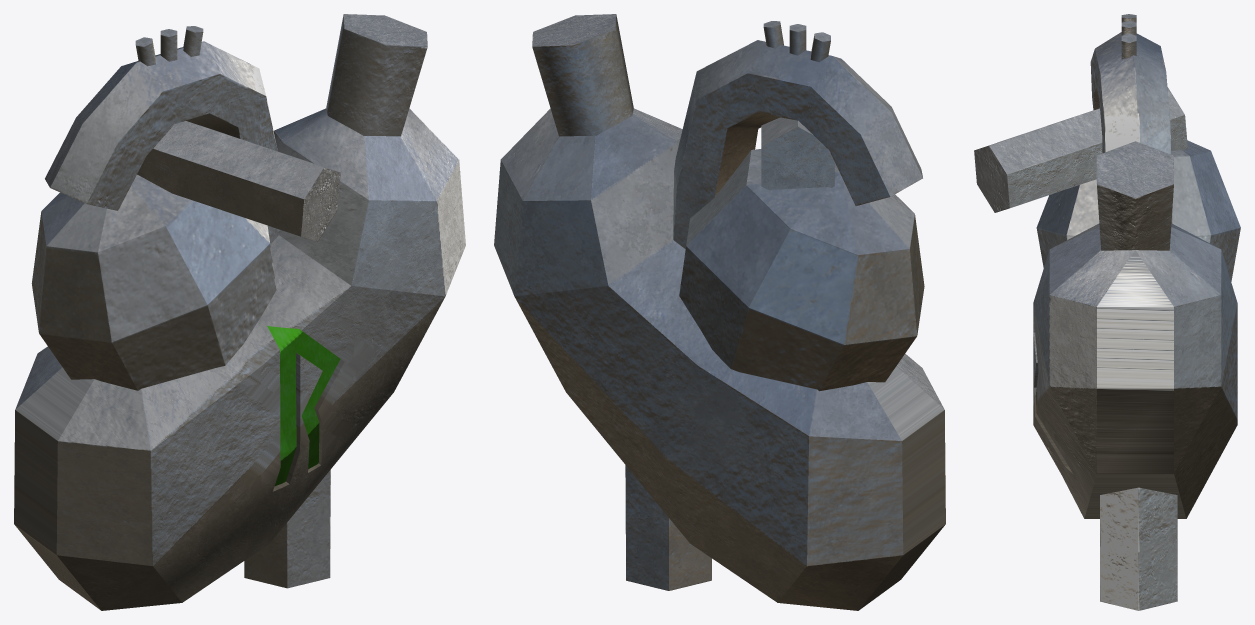
The model's file is Dash_Hermes.fbx.
3 renders of one model, left to right at view 1: azimuth 30°, elevation 25°; view 2: azimuth 150°, elevation 25°; view 3: azimuth 270°, elevation 25°, orthographic. The views are drawn at different scales.
Visible parts, largest first — view 1: Roll_Hermes' Run; view 2: Roll_Hermes' Run; view 3: Roll_Hermes' Run.
Boxes of the visible parts, left/top/right/bottom form: Roll_Hermes' Run: left=14, top=14, right=465, bottom=610; Roll_Hermes' Run: left=494, top=14, right=945, bottom=610; Roll_Hermes' Run: left=974, top=14, right=1240, bottom=610.
Bounding box in the file's own units: 53.96 × 71.63 × 33.77.
Materials: 1 (1 with a texture image).
